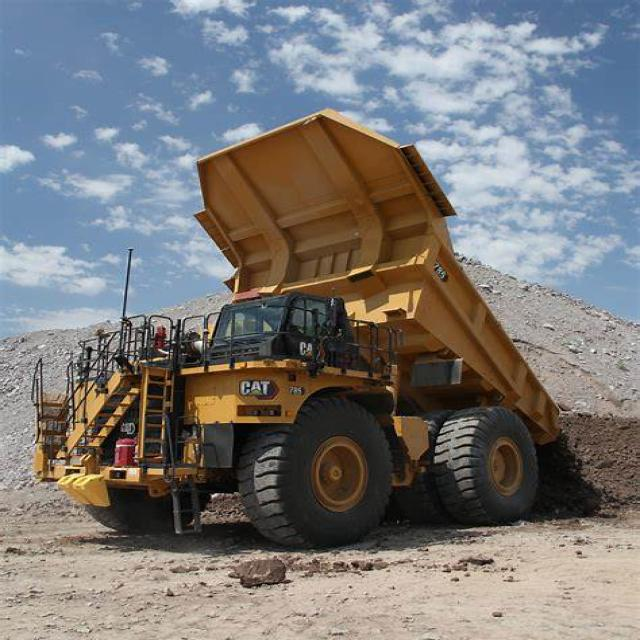dump_truck: (28, 106, 585, 557)
